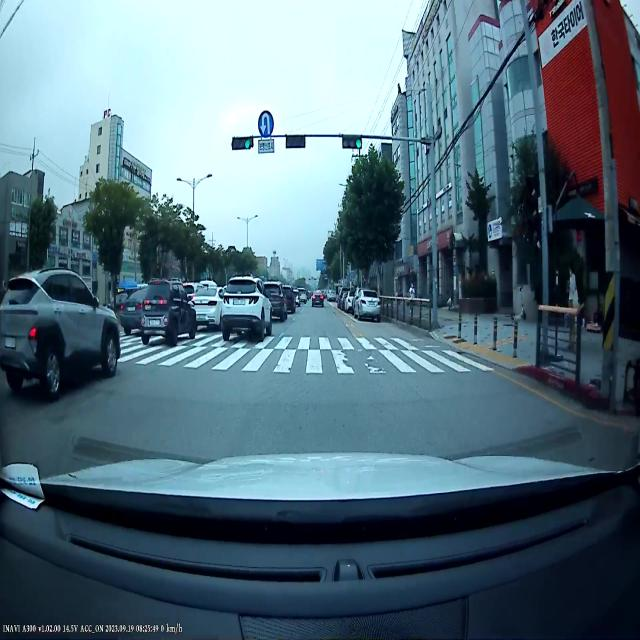Green Light: (243, 138, 251, 150), (356, 137, 361, 149)
